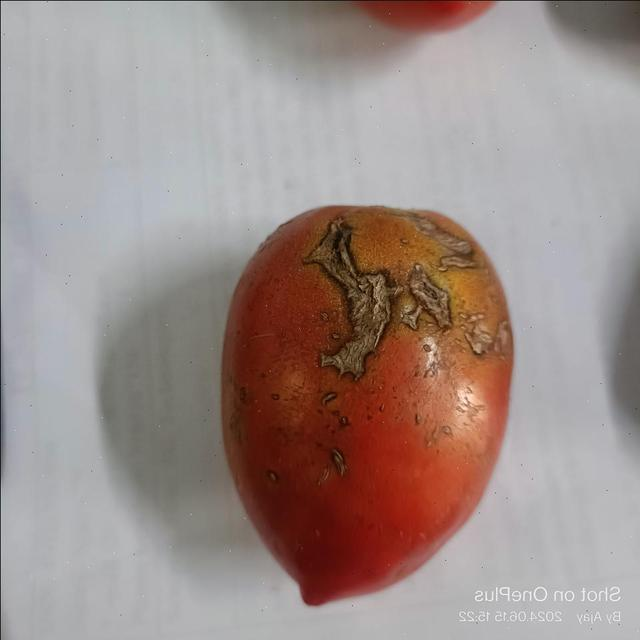Cracking Fruit: (98, 87, 325, 307)
